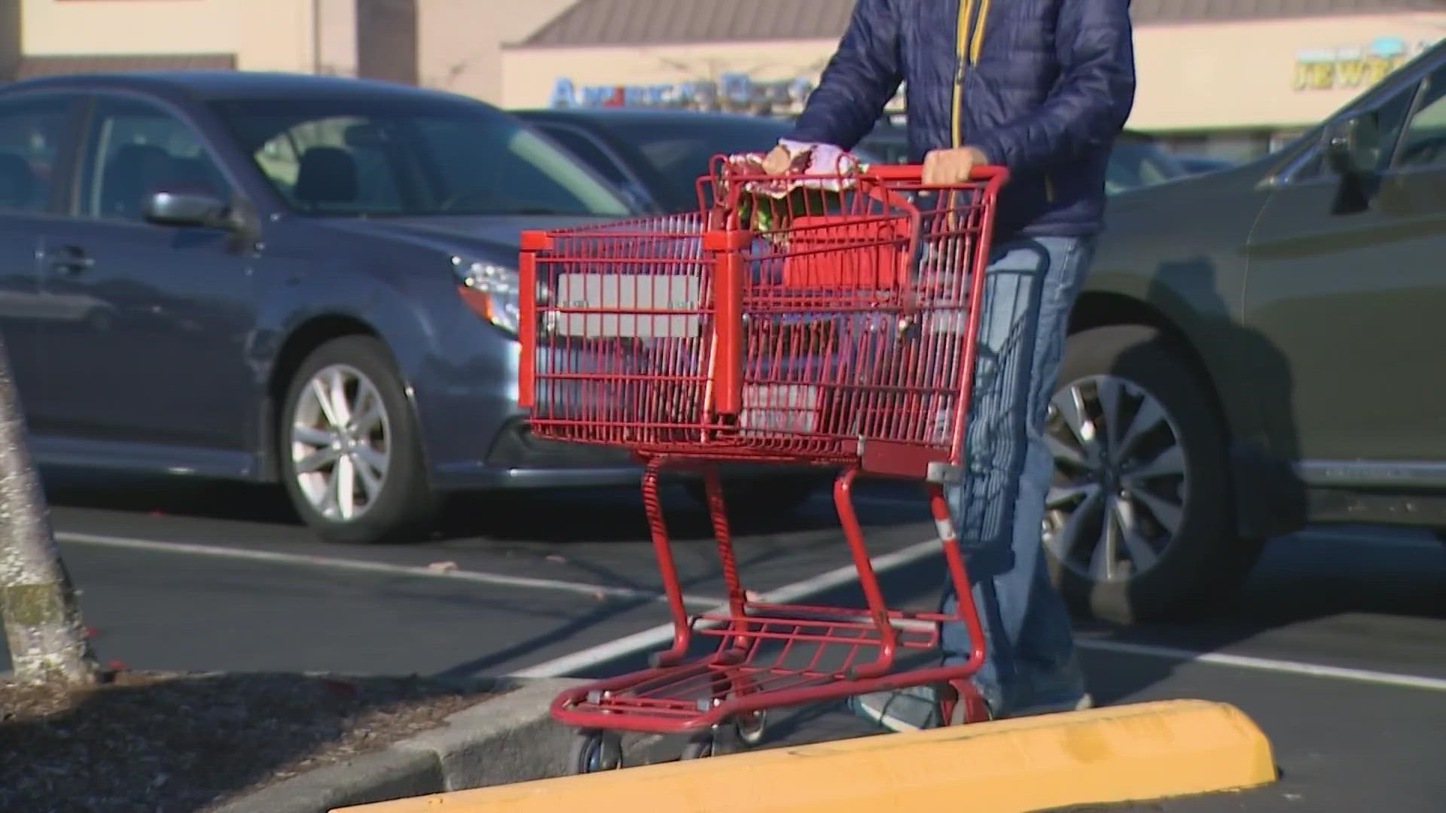Car: (1, 56, 747, 517)
shopping_cart: (511, 157, 1049, 769)
